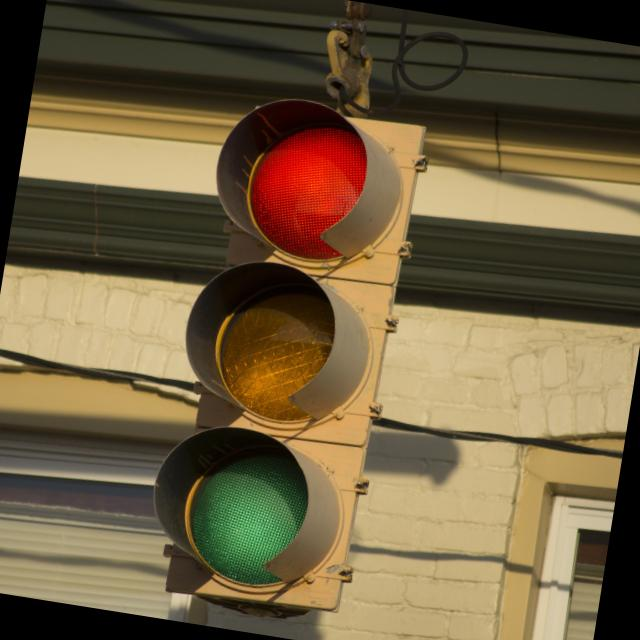green-lights: (152, 408, 343, 590)
red-lights: (201, 90, 415, 265)
yellow-lights: (182, 260, 370, 428)
